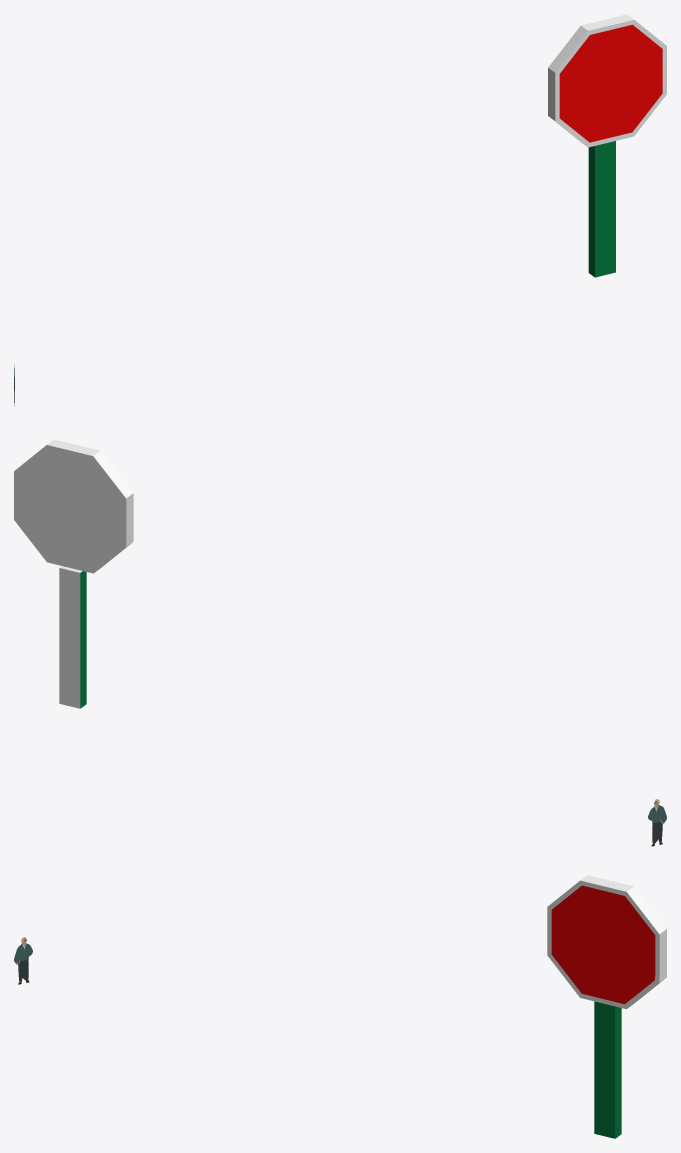
The model's file is signs.fbx.
3 views of the same model, one above another, from view 1: azimuth 30°, elevation 25°; view 2: azimuth 150°, elevation 25°; view 3: azimuth 330°, elevation 25° (orthographic).
Parts seen in each view (by area): view 1: Model; view 2: Model; view 3: Model, Steve1.
Boxes of the visible parts, <box> form: Model: <box>548,14,666,277</box>; Model: <box>14,439,133,708</box>; Model: <box>547,875,666,1138</box>; Steve1: <box>14,937,32,984</box>.
Size of the model in its own units: 24.78 by 9.21 by 0.9675.
